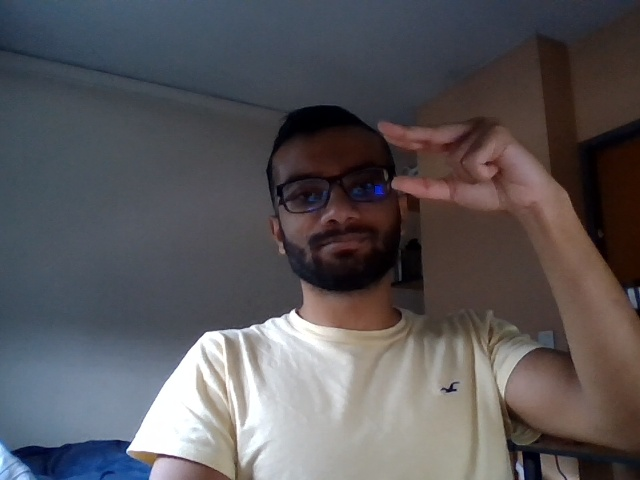No: (362, 108, 579, 217)
